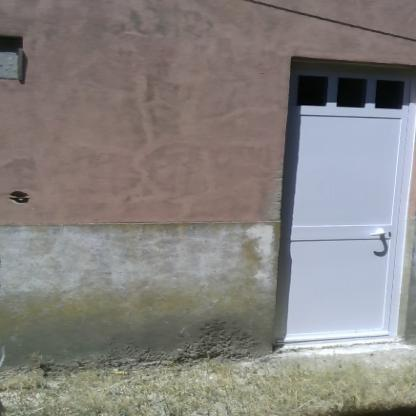door: (290, 61, 402, 342)
lever: (370, 230, 385, 238)
